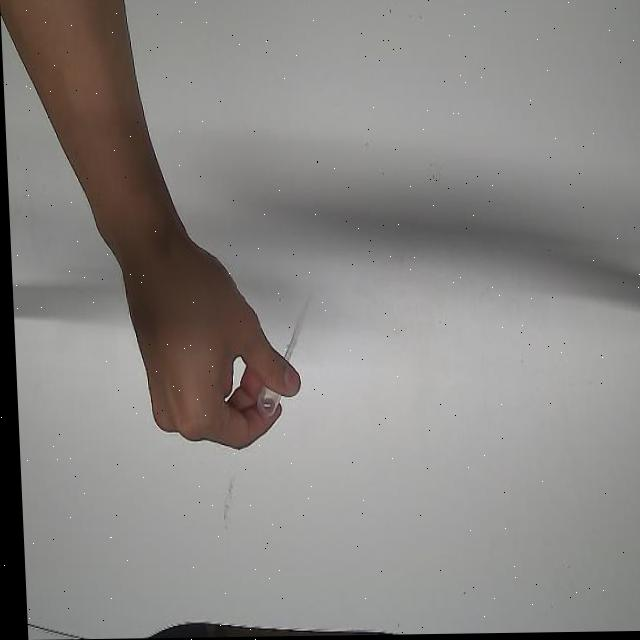Disposable Pasteur Pipette: (245, 278, 323, 423)
